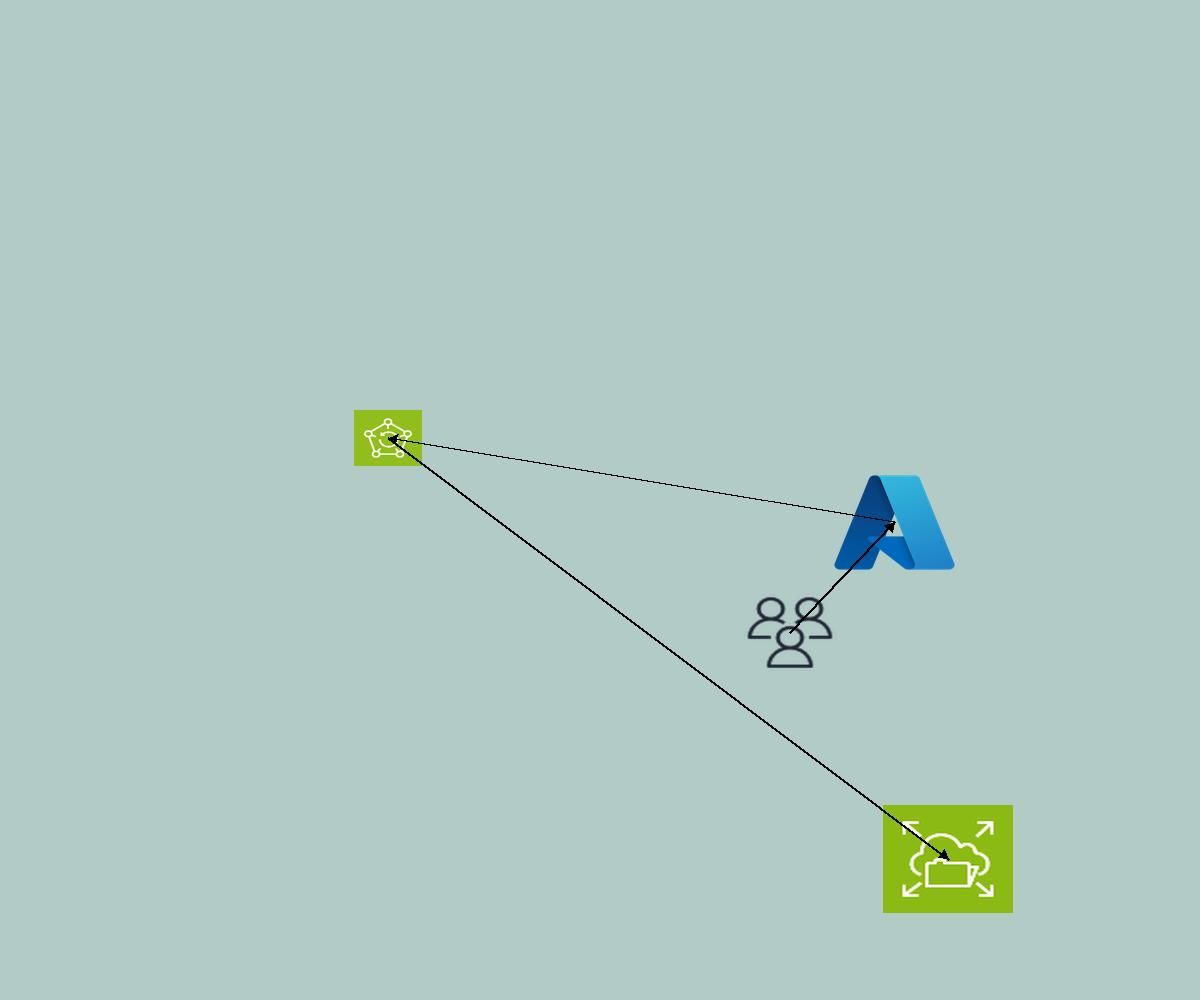AWS-Backup: (354, 410, 422, 466)
AWS-EFS: (883, 805, 1013, 913)
AWS-Res_Users: (744, 594, 836, 671)
Azure_services: (829, 468, 960, 577)
